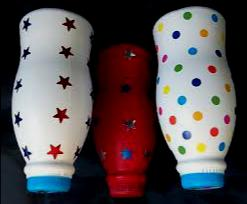Plastic: (151, 3, 237, 191)
